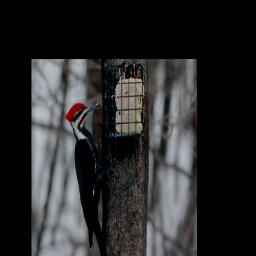Woodpecker: (65, 99, 119, 256)
